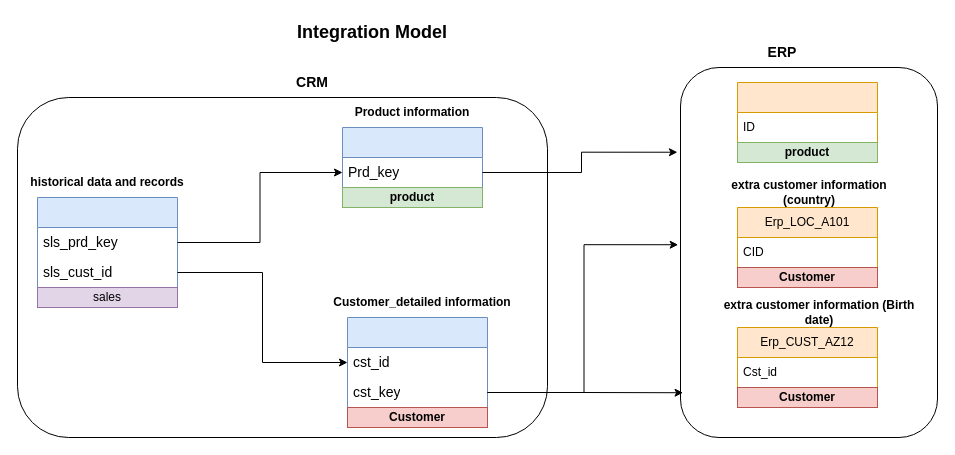
Image size: 955x455. Some labels were removed from this diagram. Each missing label, with the box of its shape:
Crm_cust_info: (346, 316, 488, 408)
Crm_prd_info: (342, 126, 482, 188)
Erp_PX_CAT_G1V2: (736, 82, 878, 142)
sales_details: (36, 196, 178, 288)
